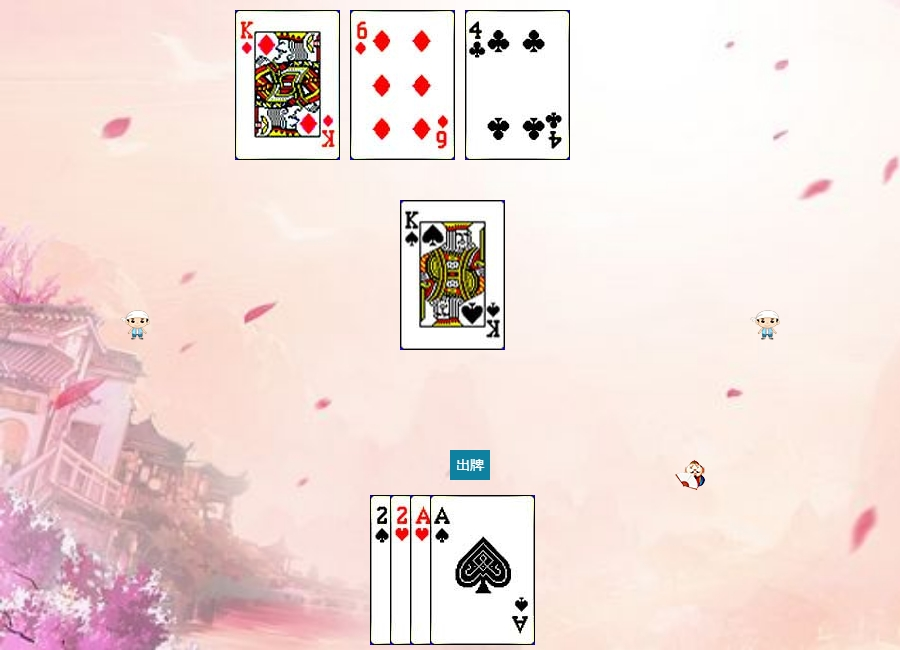13~1: (235, 10, 340, 160)
13~4: (400, 200, 505, 350)
14~3: (410, 495, 515, 645)
14~4: (430, 495, 535, 645)
15~3: (390, 495, 495, 645)
15~4: (370, 495, 475, 645)
4~2: (465, 10, 570, 160)
6~1: (350, 10, 455, 160)
